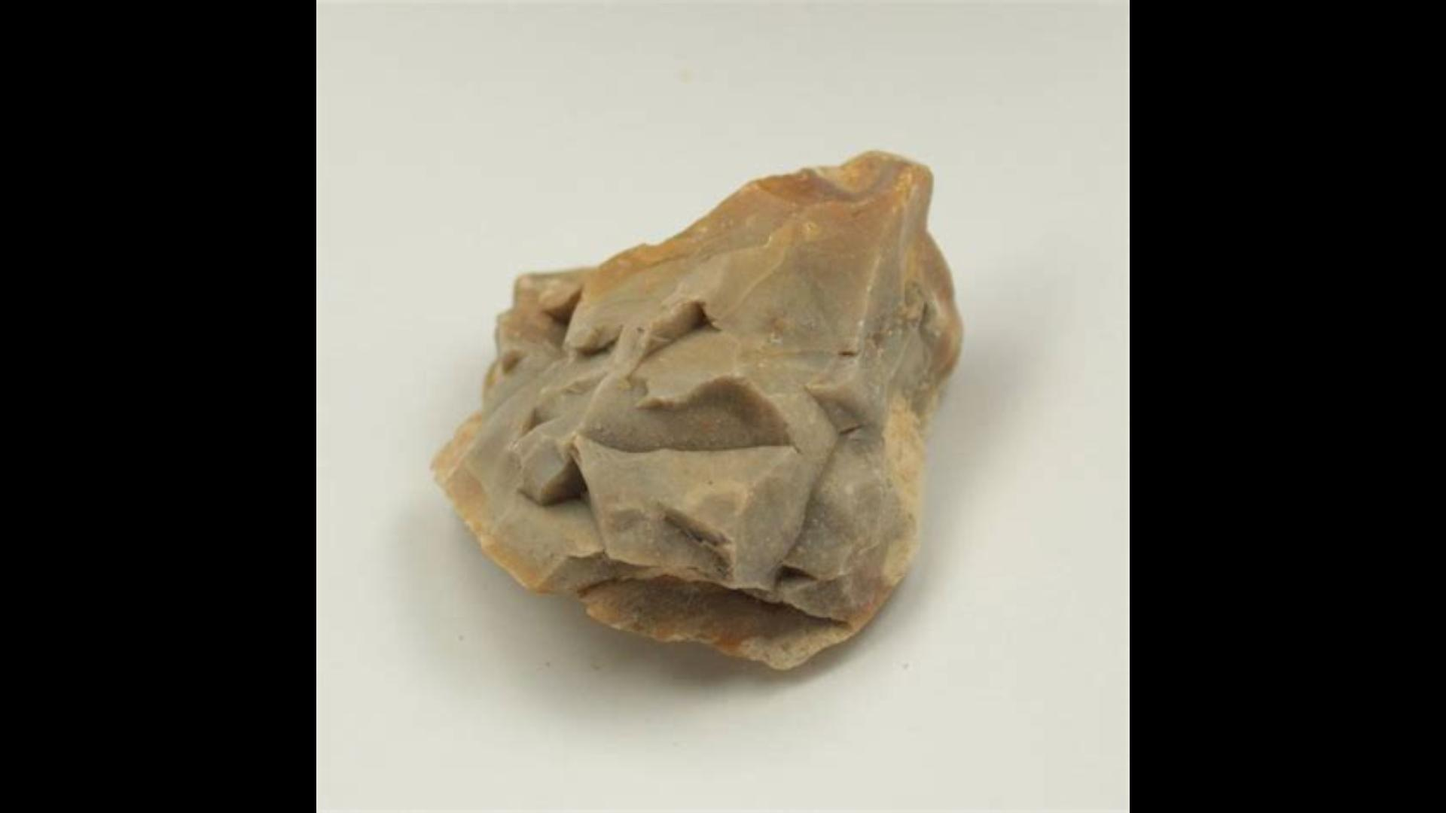rock: (433, 151, 958, 667)
